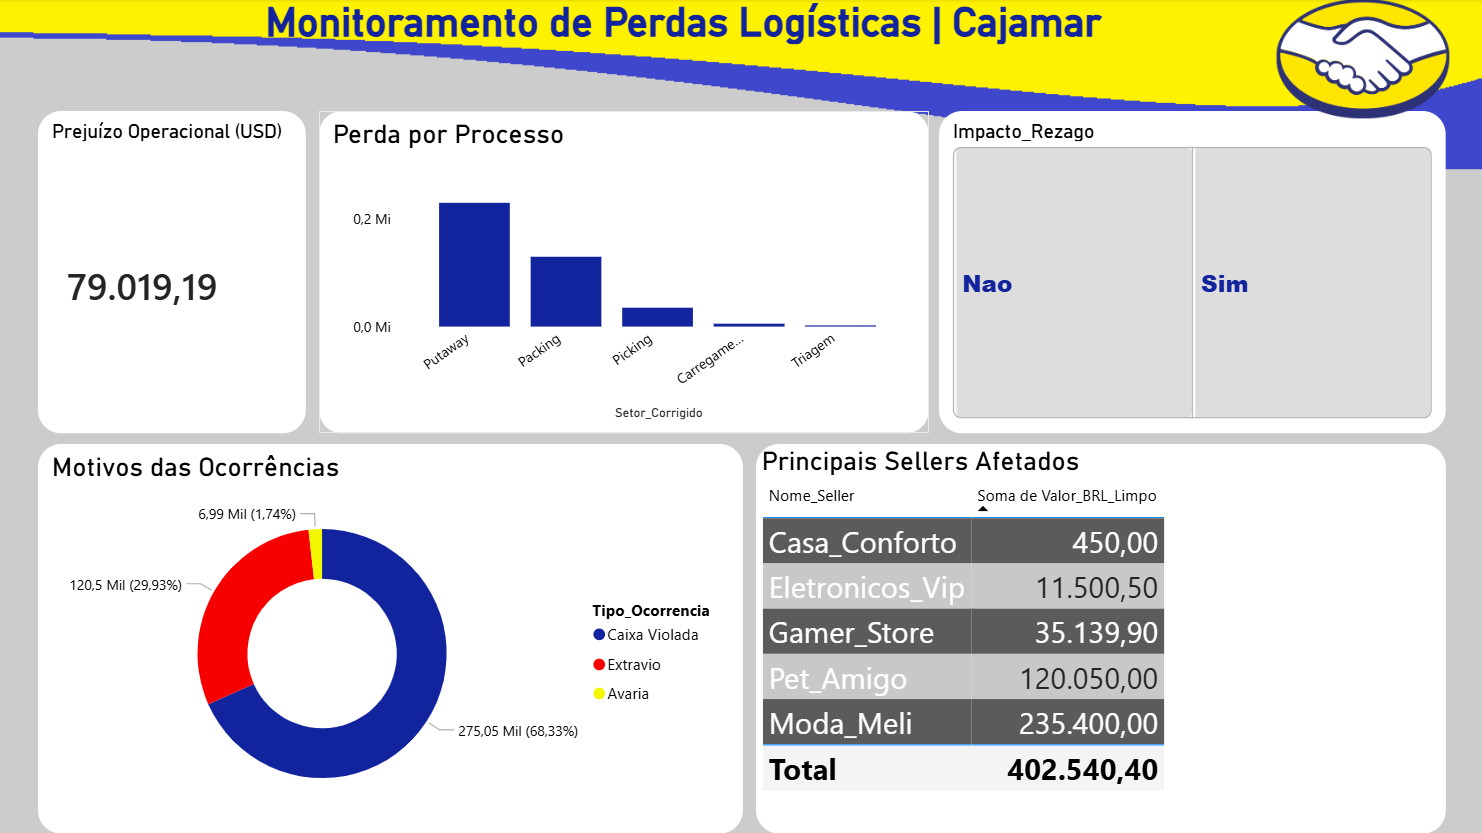

The page's visual inventory and layout, read from the dashboard file:
{"tool":"powerbi","page":{"name":"Página 1","canvas":[1280,720],"ordinal":0},"visuals":[{"type":"columnChart","title":"Perda por Processo","fields":{"Y":["Sum(Consulta1.Valor_BRL_Limpo)"],"Category":["Consulta1.Setor_Corrigido"]},"box":[275.2,96.2,526.2,277.9],"z":0},{"type":"cardVisual","title":"Prejuízo Operacional (USD)","fields":{"Data":["Sum(Consulta1.Valor_USD)"]},"box":[32.4,96.2,231.2,277.9],"z":1000},{"type":"donutChart","title":"Motivos das Ocorrências","fields":{"Category":["Consulta1.Tipo_Ocorrencia"],"Y":["Sum(Consulta1.Valor_BRL_Limpo)"]},"box":[32.4,384.1,608.1,335.5],"z":2000},{"type":"tableEx","title":"Principais Sellers Afetados","fields":{"Values":["Consulta1.Nome_Seller","Sum(Consulta1.Valor_BRL_Limpo)"]},"box":[652.1,384.1,594.6,335.5],"z":3000},{"type":"advancedSlicerVisual","fields":{"Values":["Consulta1.Impacto_Rezago"]},"box":[809.6,96.2,437.2,277.9],"z":4000},{"type":"image","box":[1091.1,0,169.1,103.4],"z":5000},{"type":"textbox","title":"Monitoramento de Perdas Logísticas | Cajamar","box":[224.3,0,975.5,96.6],"z":5001}]}

Visuals, with their boxes in screenshot pixels (x1, y1, x2, y2), scaled from the page's 1280x720 canvas onto the 1482x833 screenshot:
"Perda por Processo" columnChart: 319/111/928/433
"Prejuízo Operacional (USD)" cardVisual: 38/111/305/433
"Motivos das Ocorrências" donutChart: 38/444/742/832
"Principais Sellers Afetados" tableEx: 755/444/1443/832
advancedSlicerVisual - Consulta1.Impacto_Rezago: 937/111/1444/433
image: 1263/0/1459/120
"Monitoramento de Perdas Logísticas | Cajamar" textbox: 260/0/1389/112
